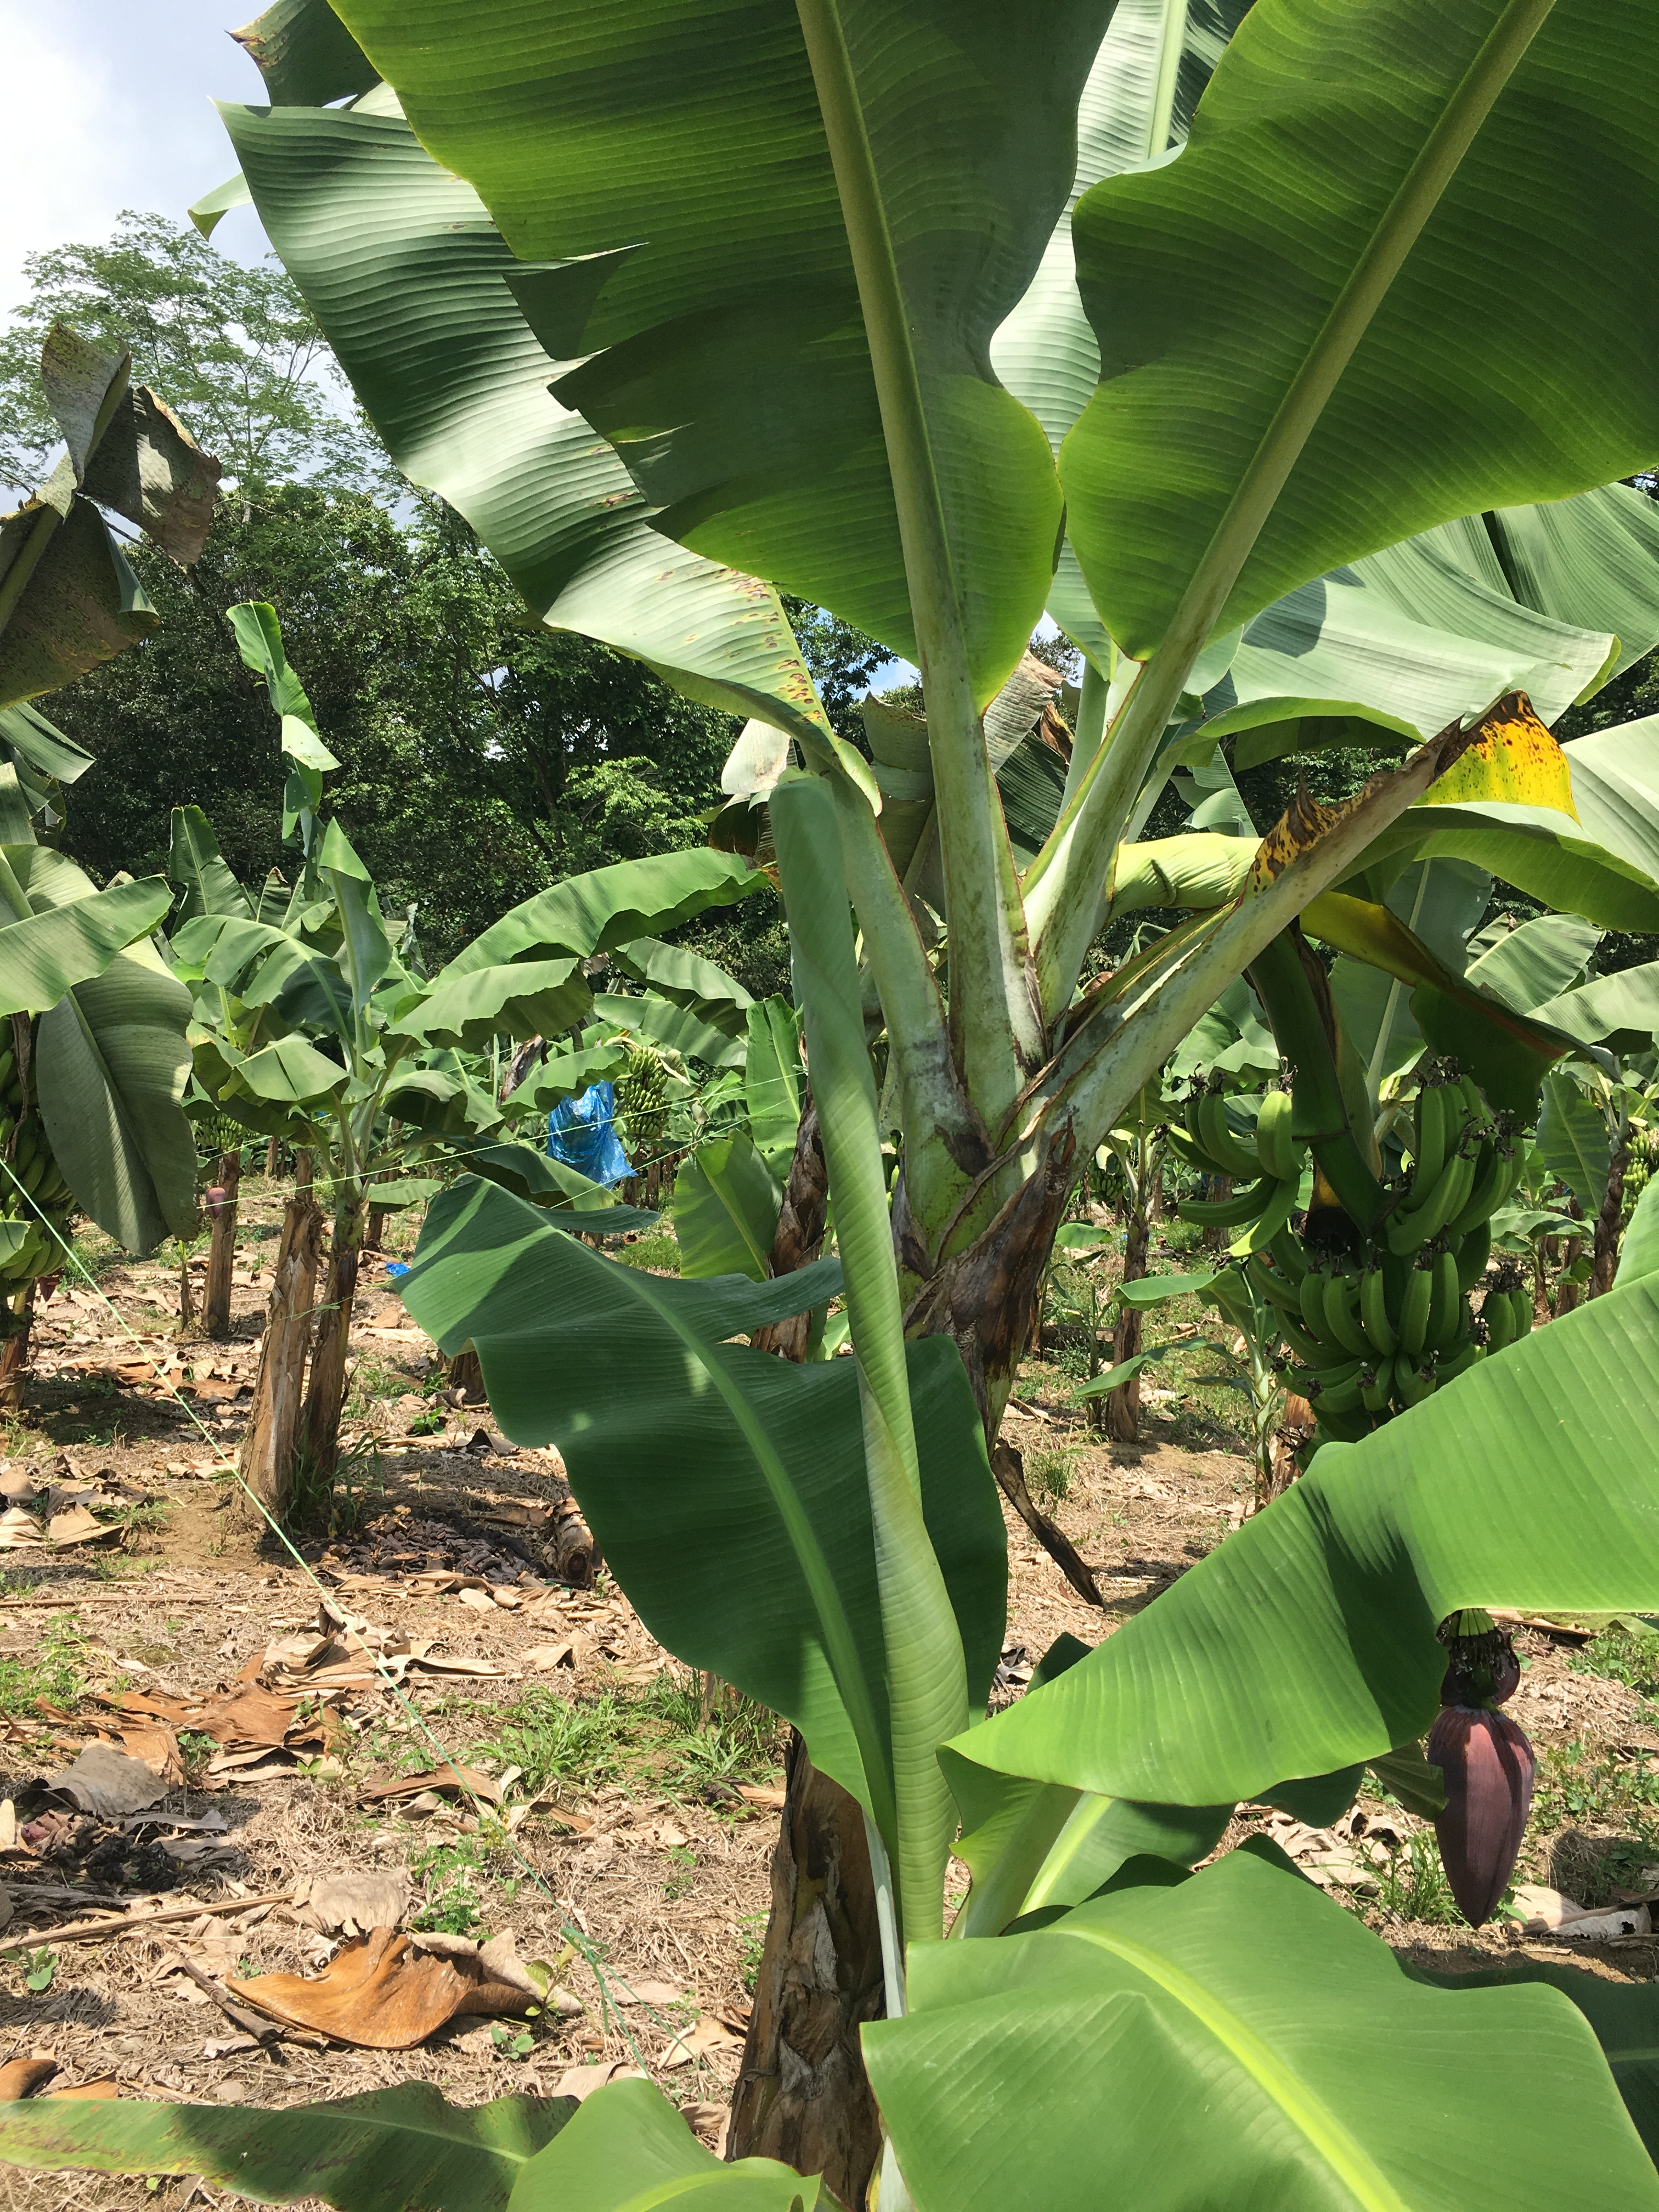candleleafs: (767, 770, 1009, 1956)
